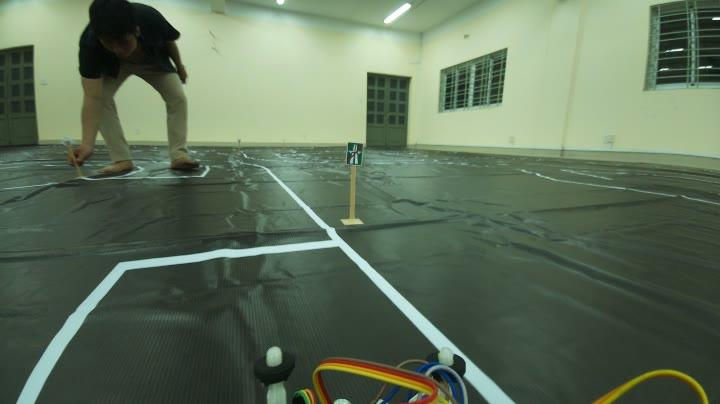highway_exit: (340, 138, 368, 172)
